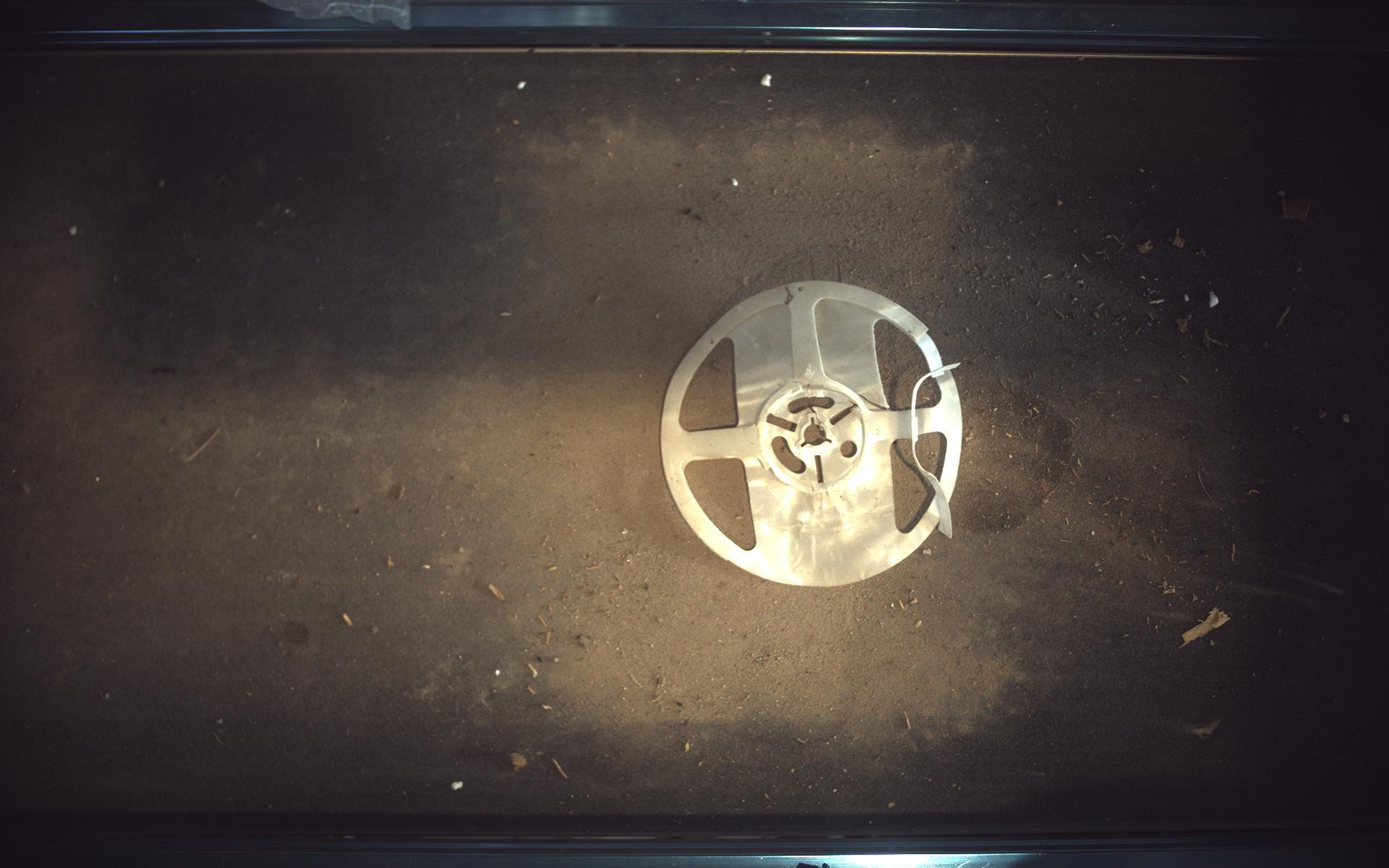plastic: (662, 280, 964, 587)
